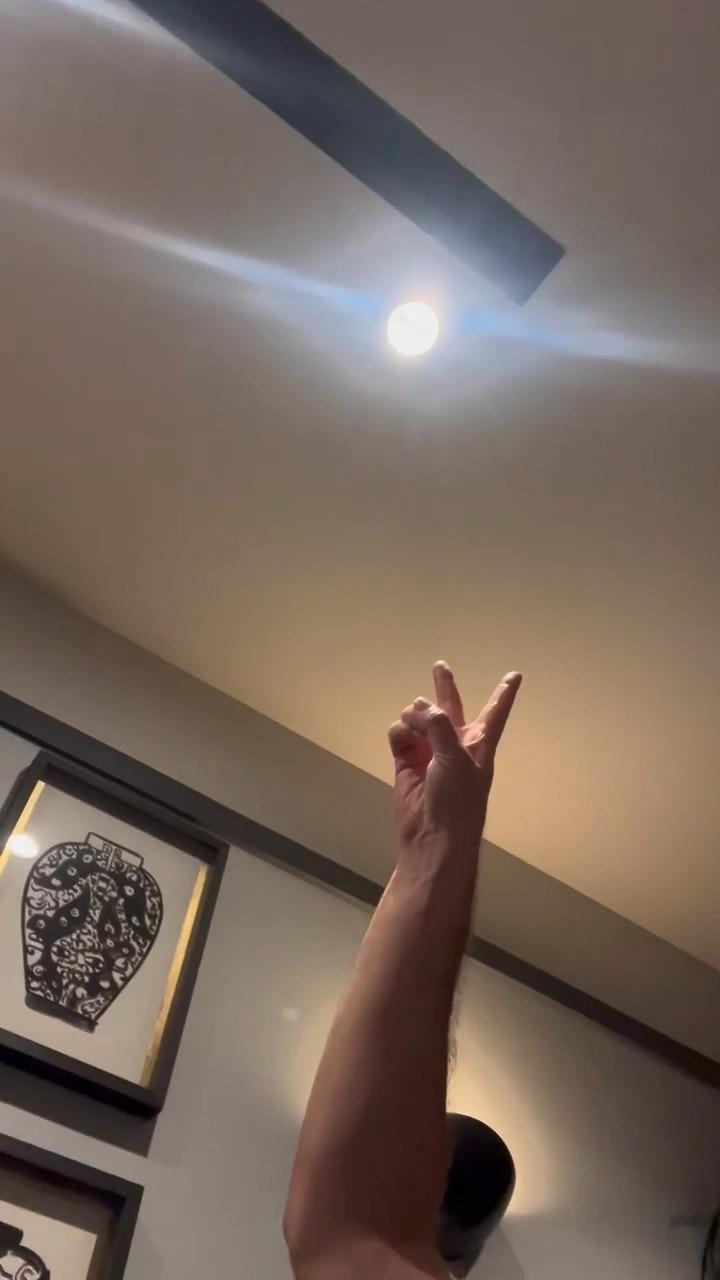Scissors: (385, 659, 530, 836)
